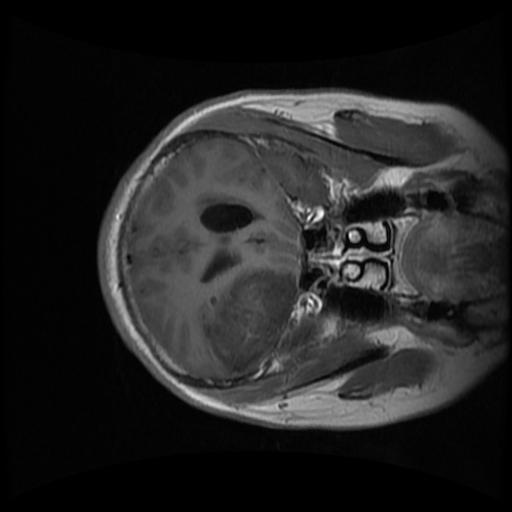glioma: (204, 268, 297, 372)
